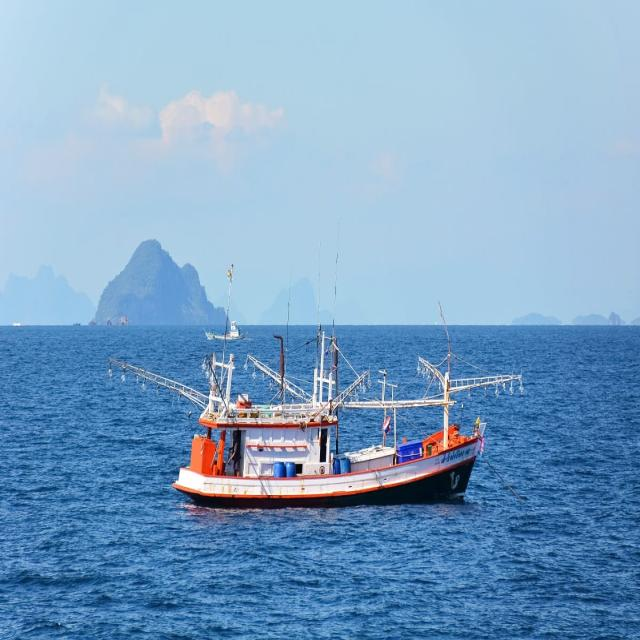Fishing Boat: (117, 169, 553, 583)
